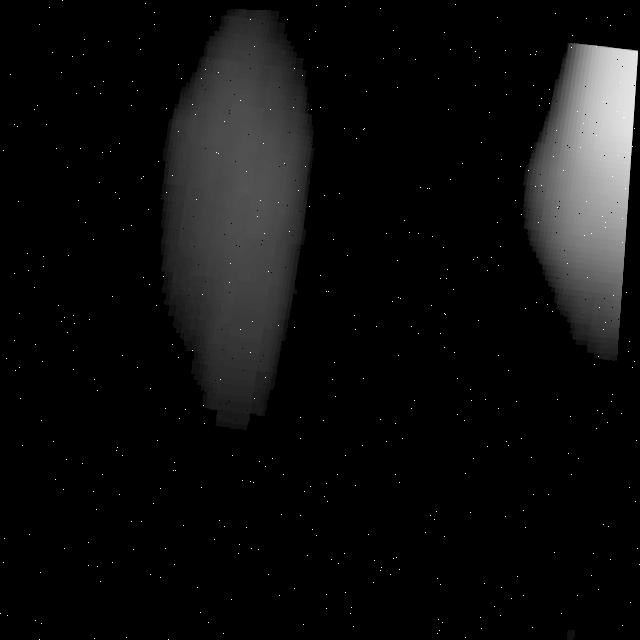person: (70, 4, 397, 504), (501, 34, 640, 330)
